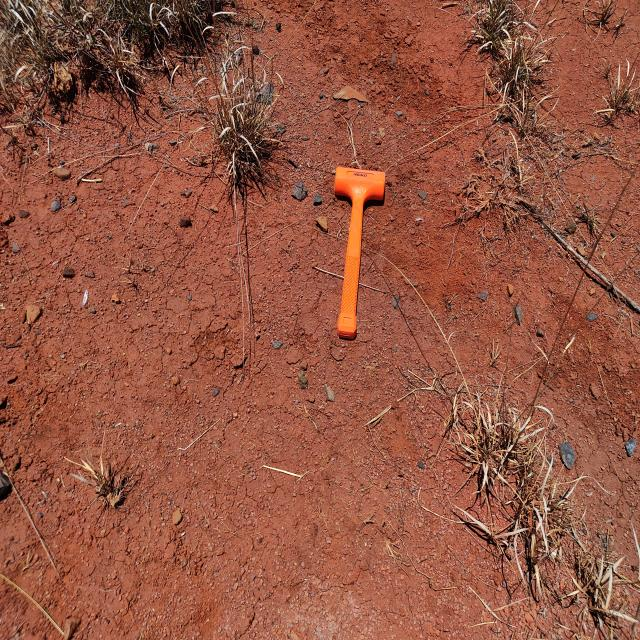Orange_hammer: (333, 165, 386, 340)
